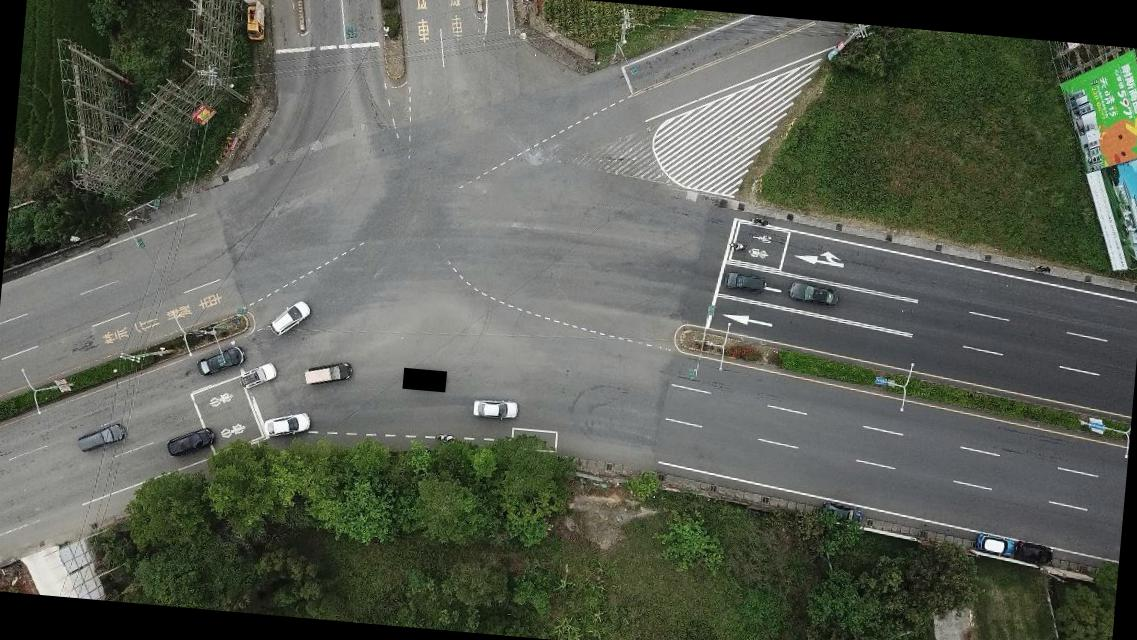vehicle: (164, 424, 218, 462), (192, 341, 246, 378), (268, 298, 312, 339), (75, 420, 126, 454), (259, 408, 311, 439), (304, 358, 352, 391), (787, 282, 841, 310), (236, 358, 277, 391), (821, 498, 866, 528), (472, 395, 520, 422), (722, 270, 767, 298), (1014, 540, 1056, 567), (975, 532, 1018, 556), (243, 4, 265, 44)
